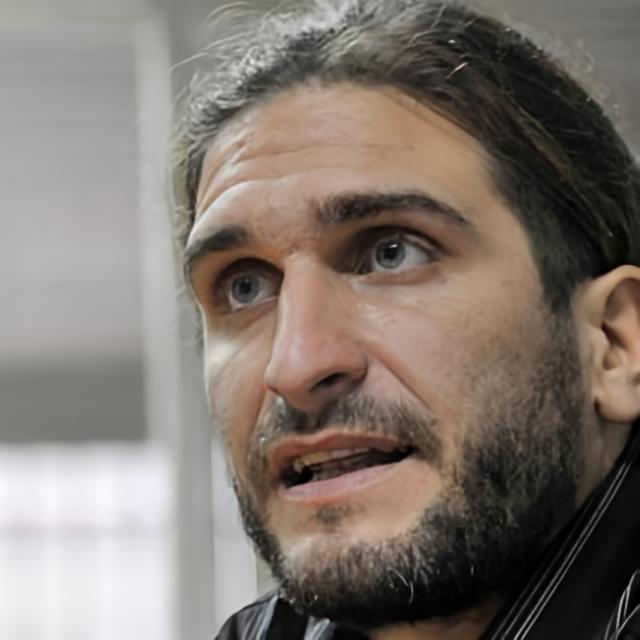fear: (182, 70, 576, 627)
